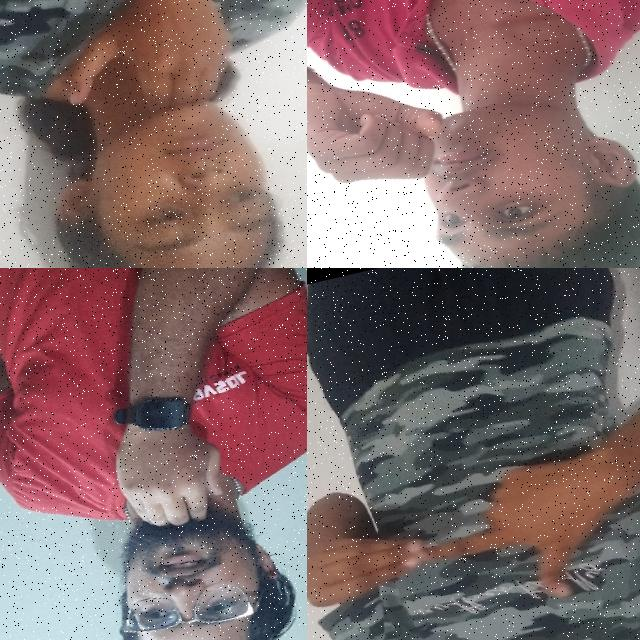Chin Flick: (0, 0, 307, 268), (74, 393, 284, 640)
Fist Mouth: (307, 0, 640, 268)
Five Fathers: (307, 425, 636, 640)
